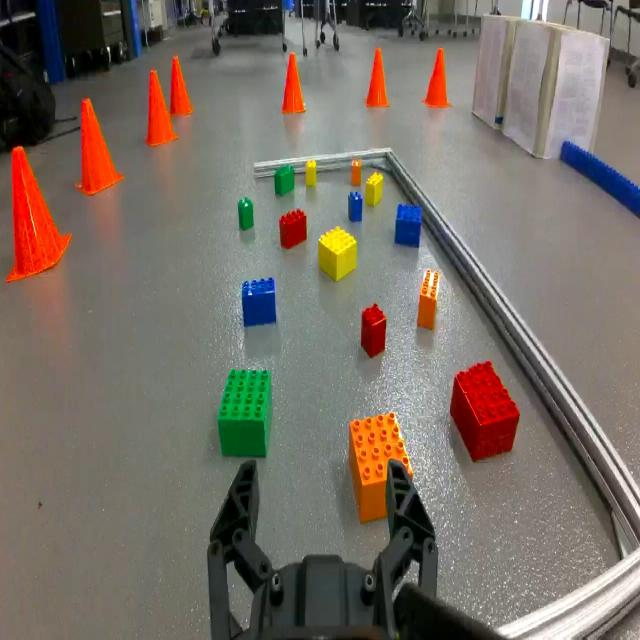block: (318, 226, 356, 283), (365, 170, 383, 208), (305, 159, 316, 188)
blue: (242, 276, 276, 328), (394, 204, 422, 248), (350, 192, 362, 221)
cone: (5, 146, 72, 282), (74, 98, 124, 196), (144, 70, 178, 149), (421, 48, 452, 108), (364, 48, 391, 108), (168, 57, 195, 117), (282, 52, 306, 114)
green: (218, 368, 271, 458), (274, 164, 294, 195), (238, 196, 254, 231)
metal barrier: (253, 147, 640, 640)
orange: (349, 412, 413, 524), (417, 269, 441, 330), (351, 160, 361, 187)
red goal: (451, 360, 520, 462), (361, 304, 386, 359), (278, 208, 306, 250)
river: (560, 141, 640, 219)
storage cube: (501, 19, 611, 162), (471, 14, 516, 131)
